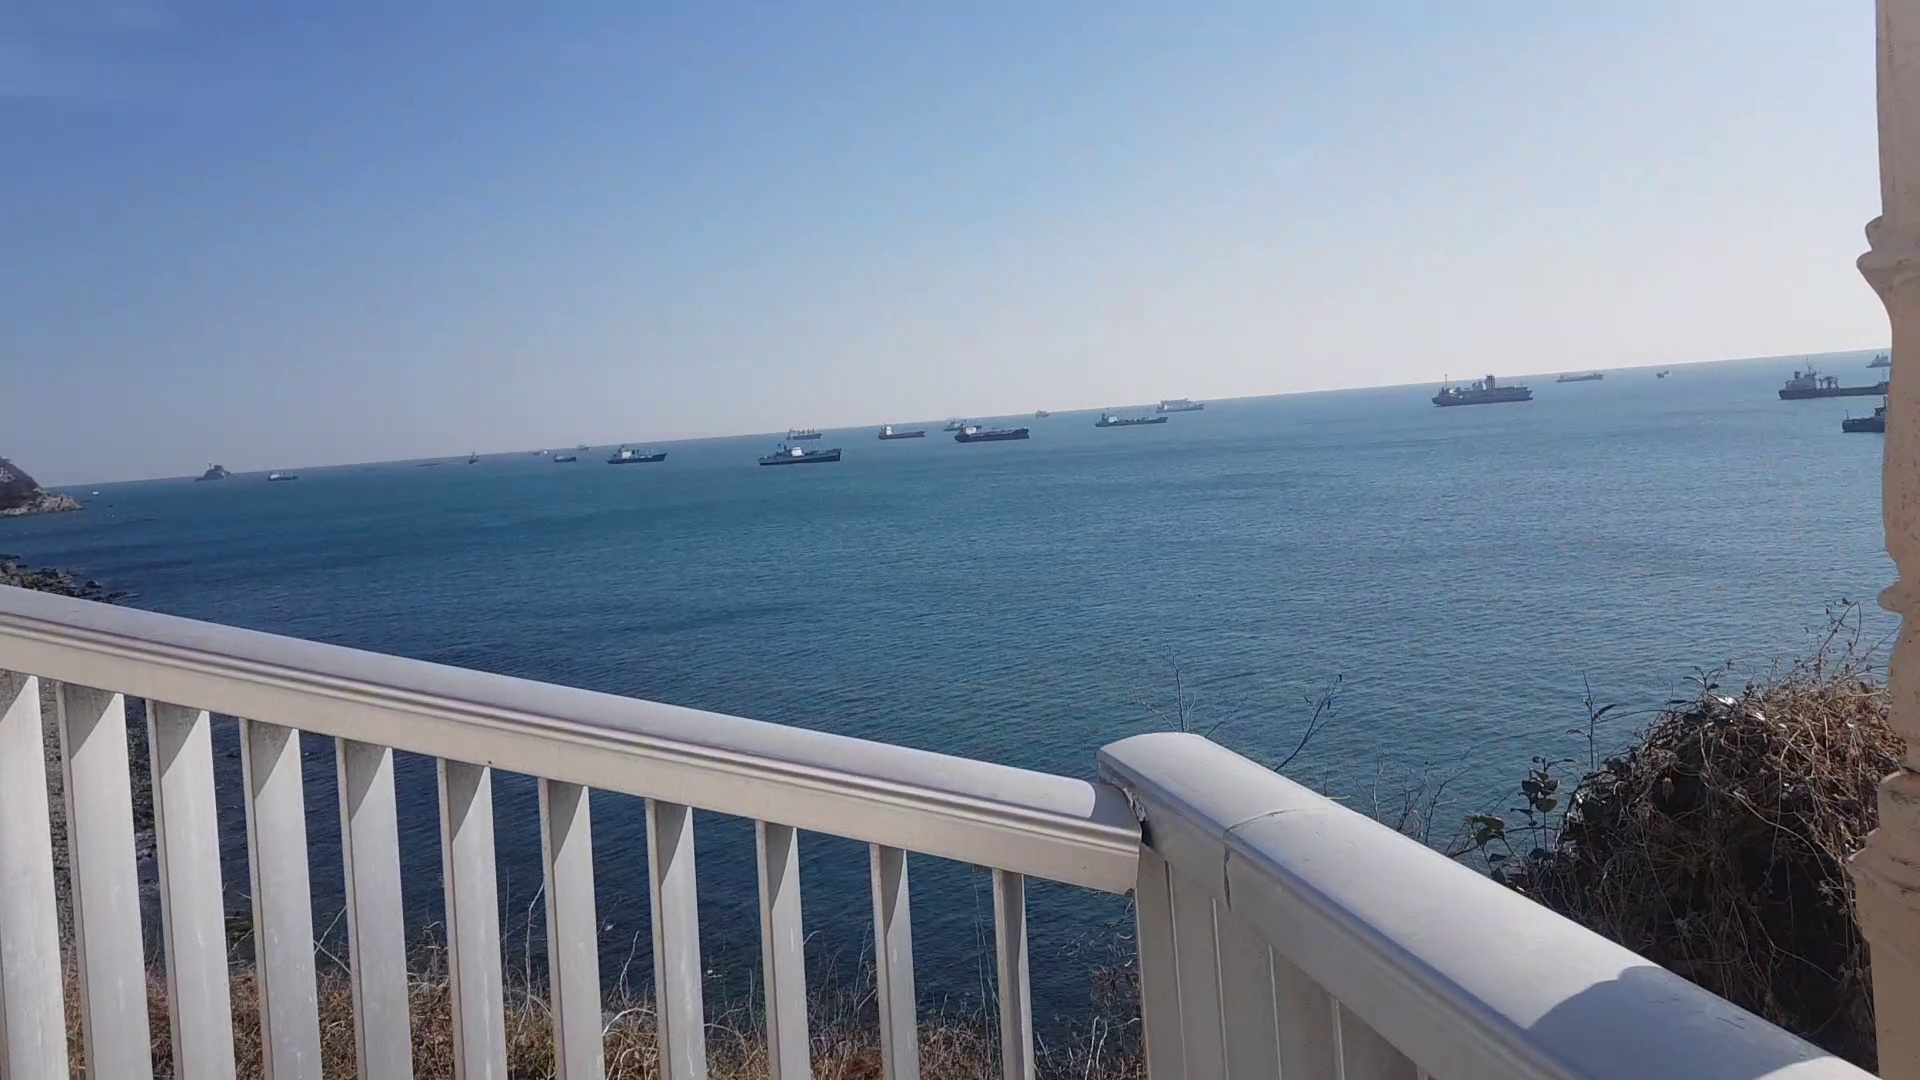Bulk_Carrier: (940, 426, 1029, 442)
